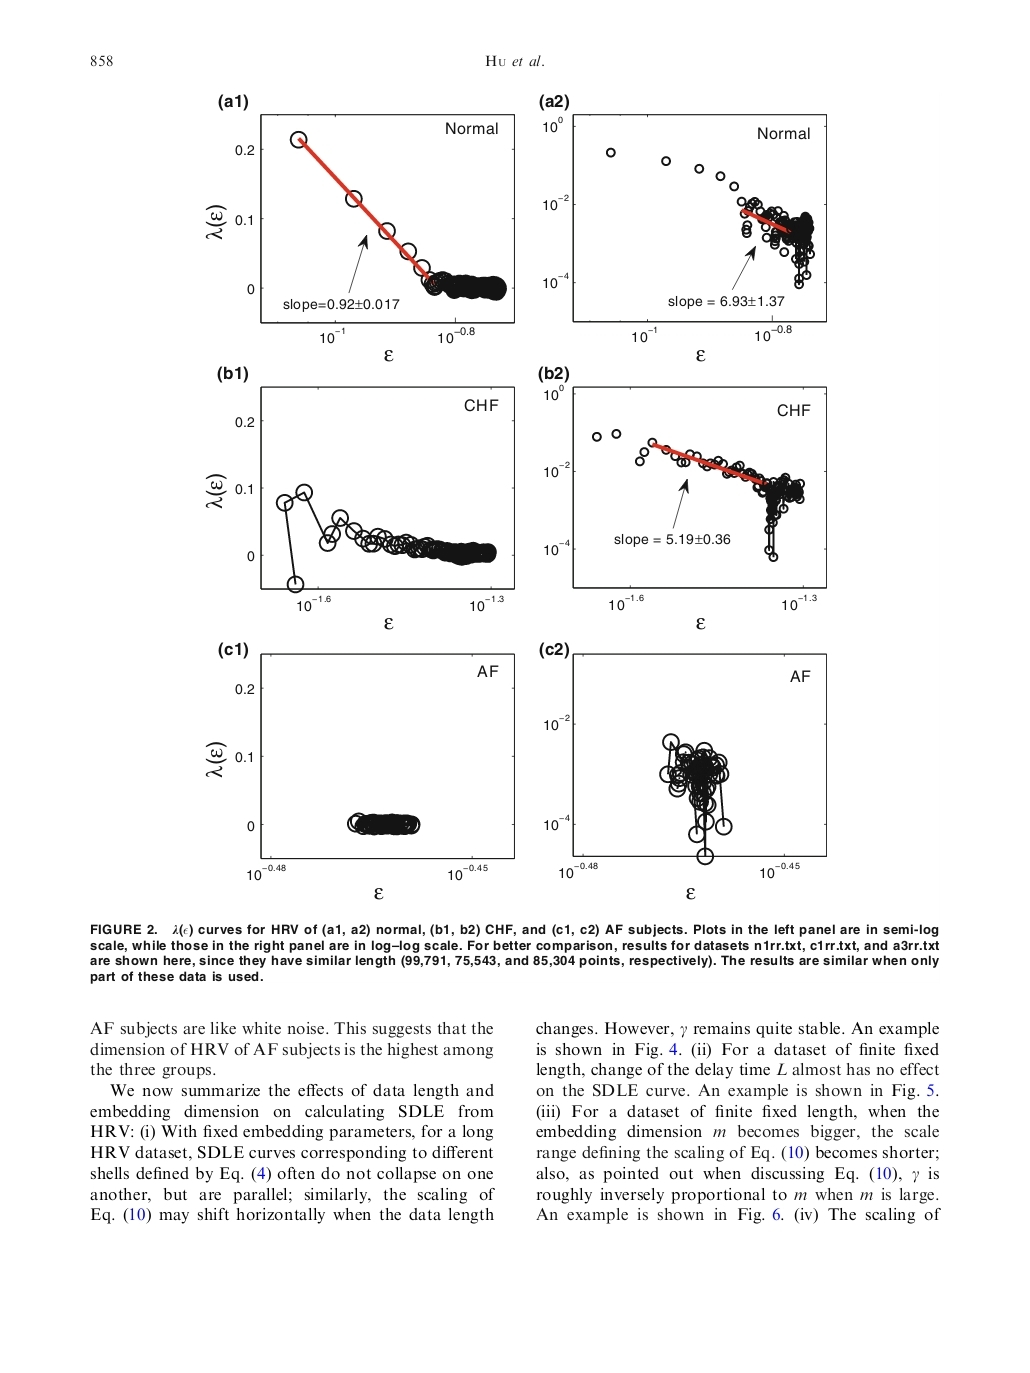figure: (204, 92, 514, 344), (204, 642, 514, 880), (539, 92, 826, 343), (538, 366, 826, 610), (204, 385, 514, 612), (539, 641, 826, 879)
